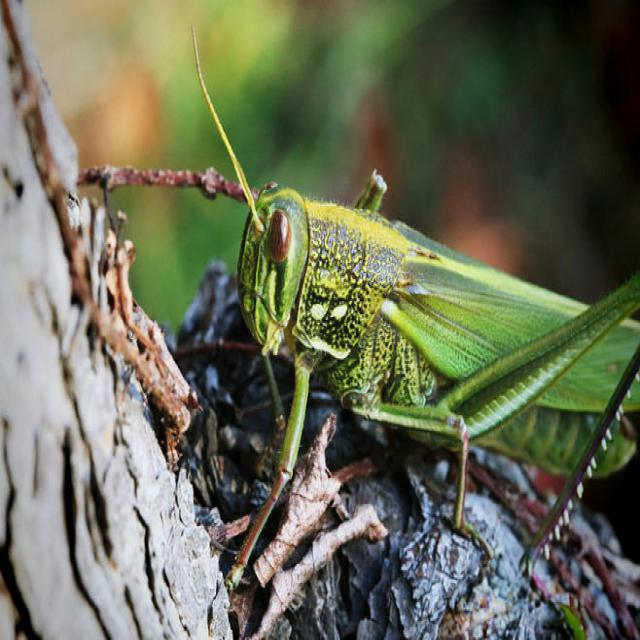ZhaMeng: (134, 75, 637, 491)
